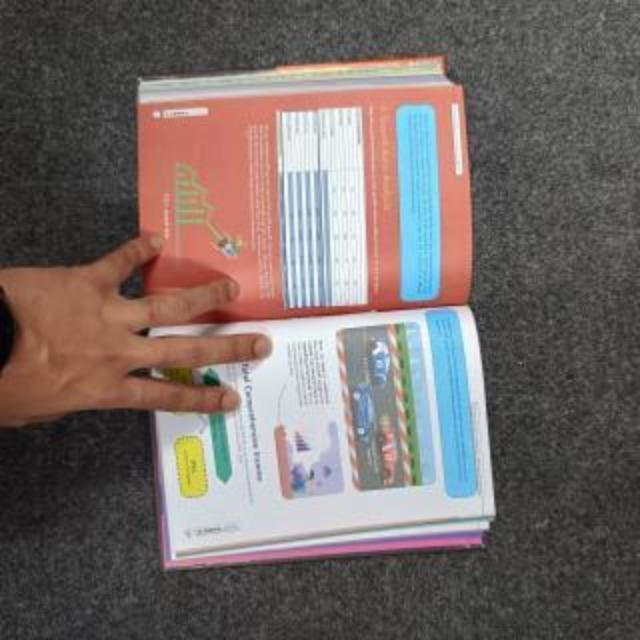book: (108, 38, 508, 582)
